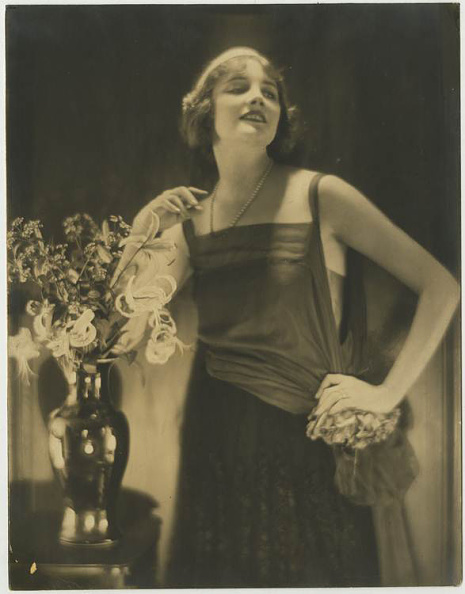em pe: (91, 13, 391, 581)
